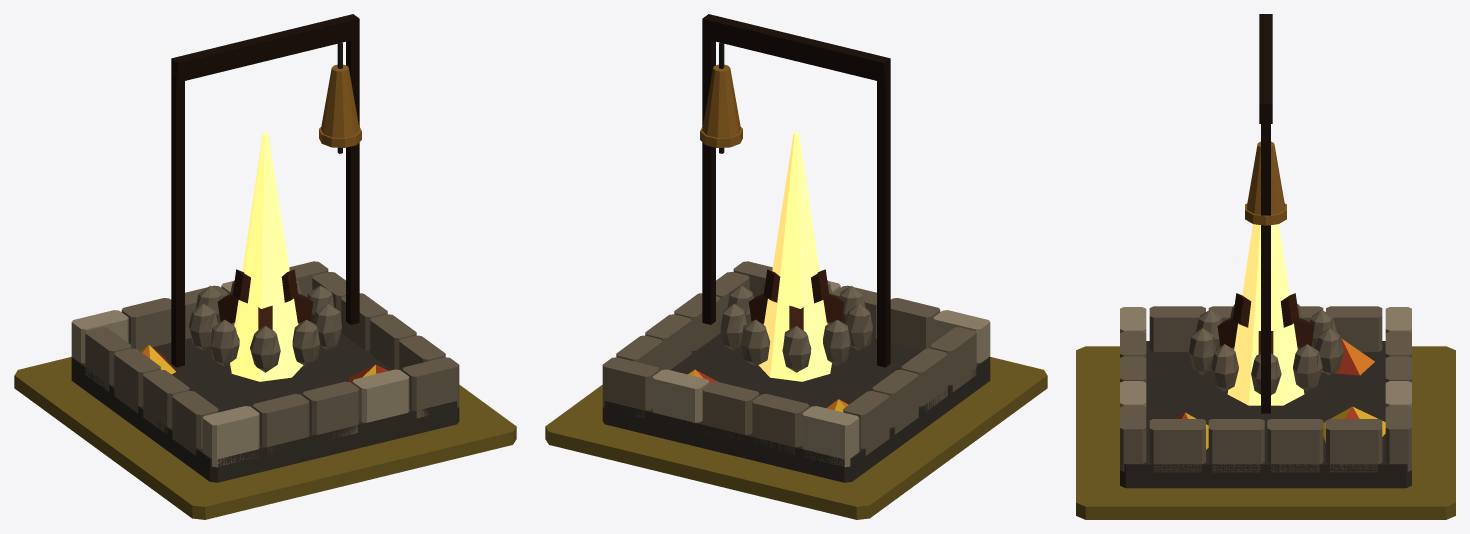
Rendered from watchfire_t4.glb.
The picture shows the model from 3 angles, left to right: view 1: azimuth 30°, elevation 25°; view 2: azimuth 150°, elevation 25°; view 3: azimuth 270°, elevation 25°; orthographic projection.
Parts seen in each view (by area): view 1: MMR | watchfire | T04 Architecture.001, MMR | watchfire | Tier 04 Ground.001, MMR | watchfire | T04 Flame Glow.001, MMR | watchfire | T04 Autumn Dressing.001; view 2: MMR | watchfire | T04 Architecture.001, MMR | watchfire | Tier 04 Ground.001, MMR | watchfire | T04 Flame Glow.001; view 3: MMR | watchfire | T04 Architecture.001, MMR | watchfire | Tier 04 Ground.001, MMR | watchfire | T04 Flame Glow.001, MMR | watchfire | T04 Autumn Dressing.001.
Boxes of the visible parts, x1=… form: MMR | watchfire | T04 Architecture.001: x1=71, y1=14, x2=459, y2=482; MMR | watchfire | Tier 04 Ground.001: x1=14, y1=357, x2=516, y2=519; MMR | watchfire | T04 Flame Glow.001: x1=230, y1=132, x2=303, y2=381; MMR | watchfire | T04 Autumn Dressing.001: x1=140, y1=323, x2=388, y2=383; MMR | watchfire | T04 Architecture.001: x1=602, y1=14, x2=990, y2=482; MMR | watchfire | Tier 04 Ground.001: x1=545, y1=357, x2=1047, y2=519; MMR | watchfire | T04 Flame Glow.001: x1=758, y1=132, x2=831, y2=381; MMR | watchfire | T04 Architecture.001: x1=1120, y1=14, x2=1411, y2=488; MMR | watchfire | Tier 04 Ground.001: x1=1076, y1=346, x2=1455, y2=519; MMR | watchfire | T04 Flame Glow.001: x1=1227, y1=224, x2=1304, y2=405; MMR | watchfire | T04 Autumn Dressing.001: x1=1175, y1=338, x2=1385, y2=449.
Size of the model in its own units: 1.3 by 1.44 by 1.3.
Materials: 2 (1 with a texture image).
